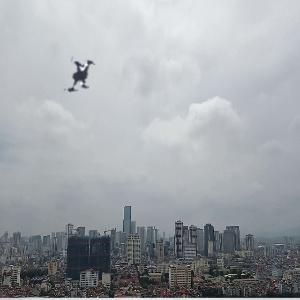drone: (44, 39, 119, 114)
